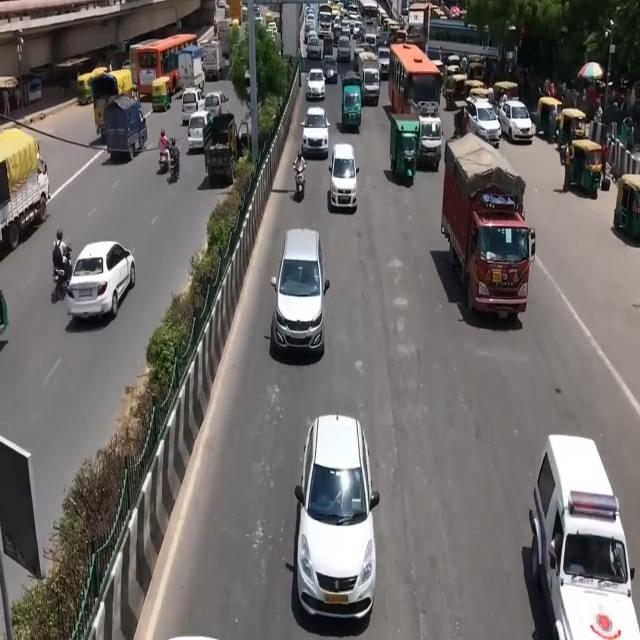auto: (568, 139, 614, 200), (566, 138, 604, 199), (388, 114, 421, 184), (613, 173, 640, 242), (536, 95, 563, 139), (558, 107, 587, 147), (77, 68, 107, 106), (151, 77, 172, 118), (445, 72, 468, 108), (151, 76, 172, 112), (493, 80, 519, 103)
bike-auto: (52, 224, 73, 334), (52, 229, 73, 300), (292, 148, 308, 205), (292, 149, 306, 195), (168, 136, 180, 180), (159, 129, 169, 167)
